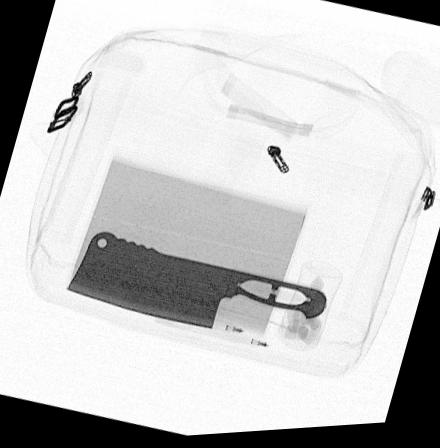Knife: (62, 229, 328, 332)
